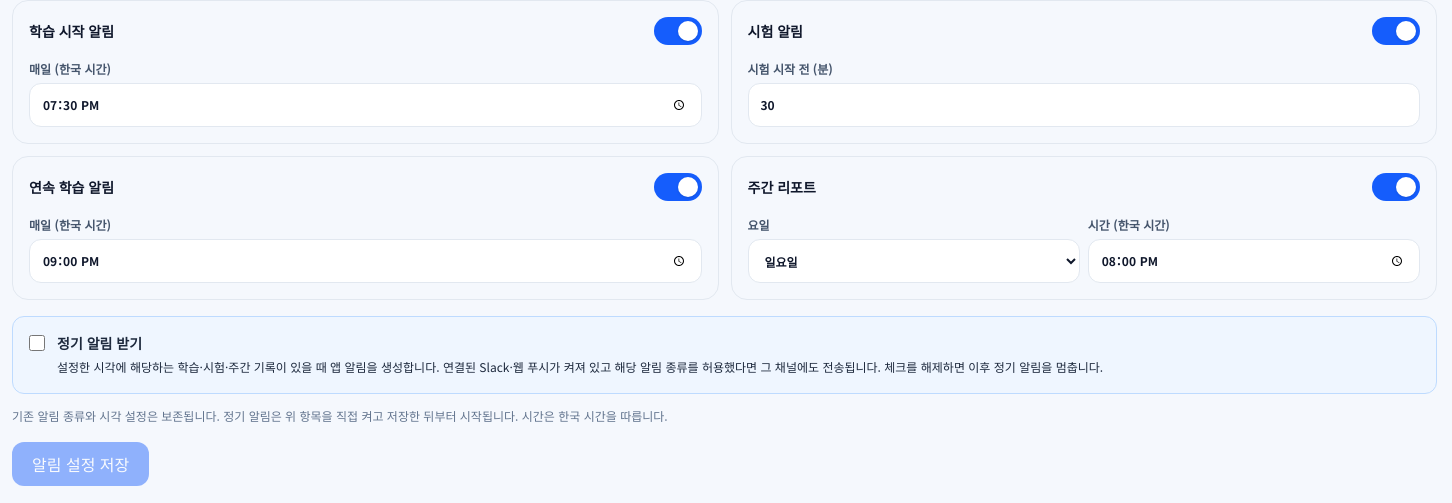
Scenario: notification preferences › saves edited times, interval, and weekday with the original revision
Replace the text in the time field labelled "매일 (한국 시간)" below "학습 시작 알림" with "08:15" at (365, 105), box [29,83,702,127]
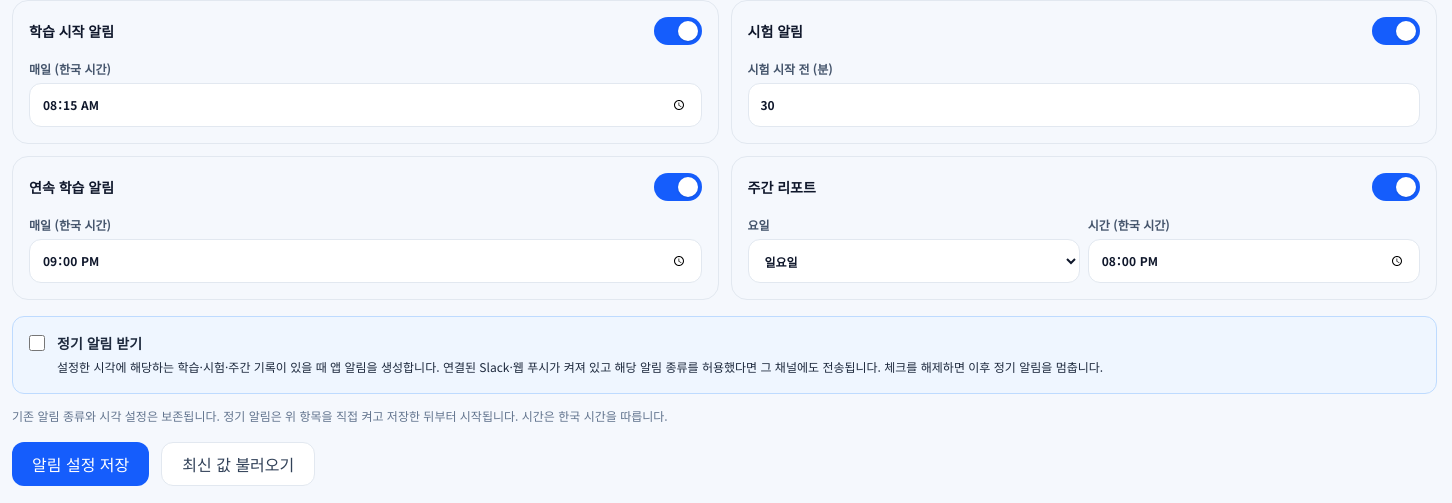
Replace the text in the number field labelled "시험 시작 전 (분)" with "45" at (1084, 105), box [748,83,1420,127]
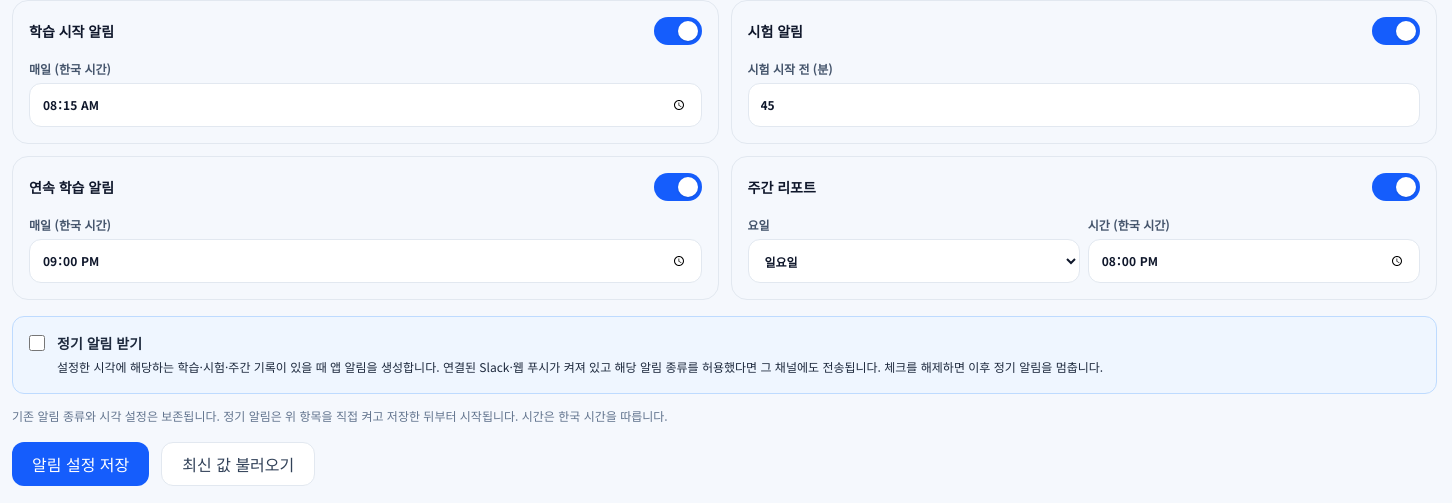
Select "MONDAY" in the dropdown labelled "요일" at (914, 261), box [748,239,1080,283]
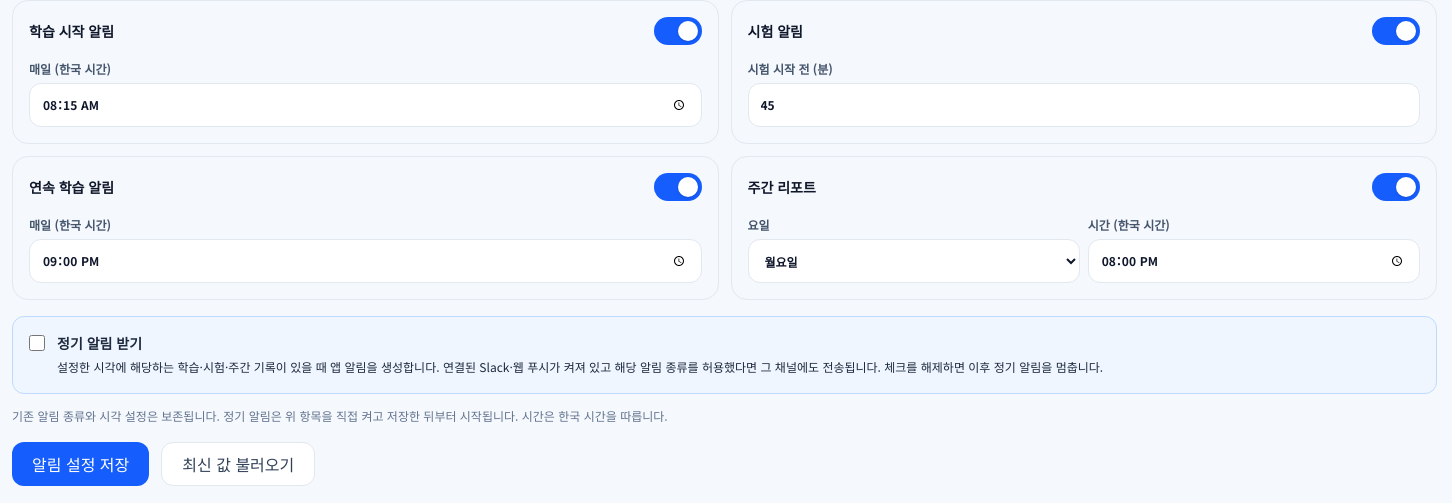
Replace the text in the time field labelled "시간 (한국 시간)" with "09:10" at (1254, 261), box [1088,239,1420,283]
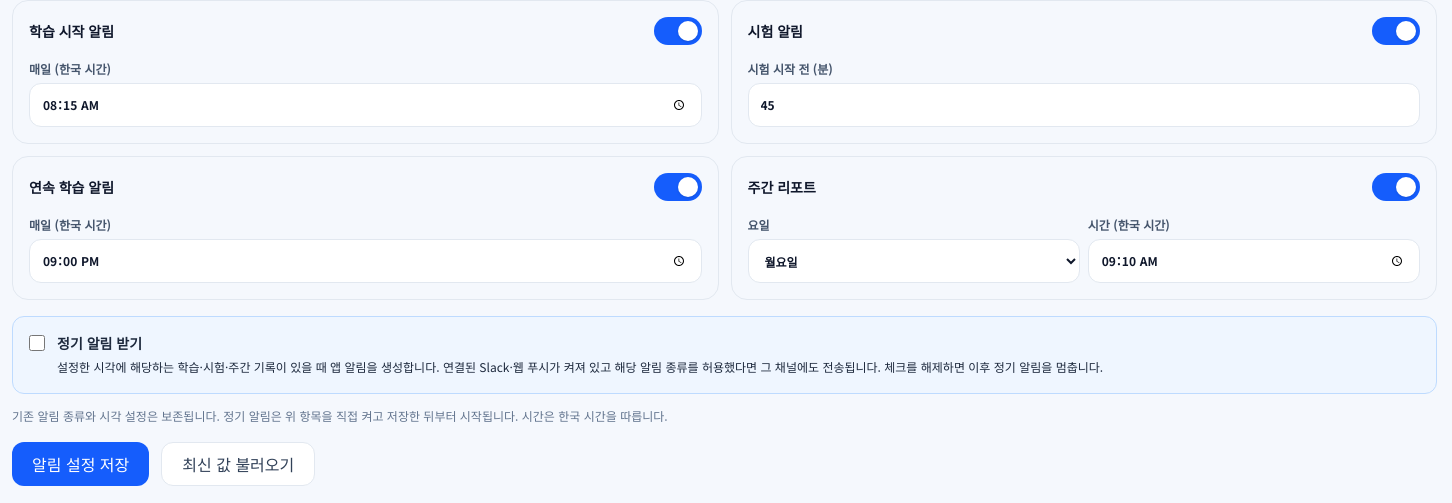
Click the button "알림 설정 저장" at (81, 464), box [12,442,149,486]
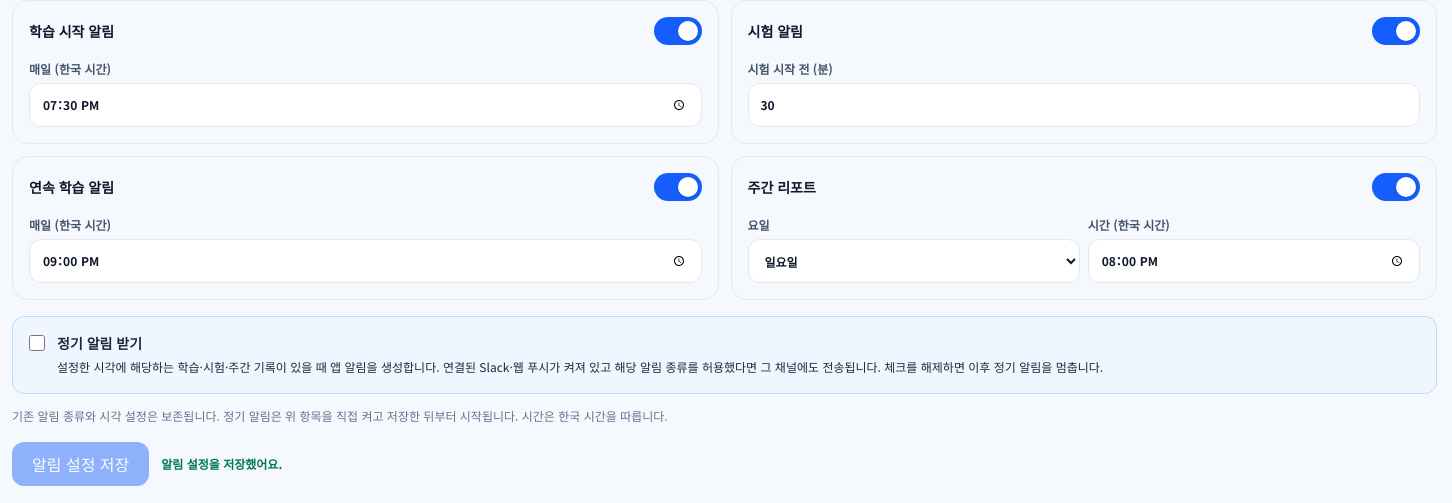
Expected: the text "알림 설정을 저장했어요." is shown, [161,456,282,472]
